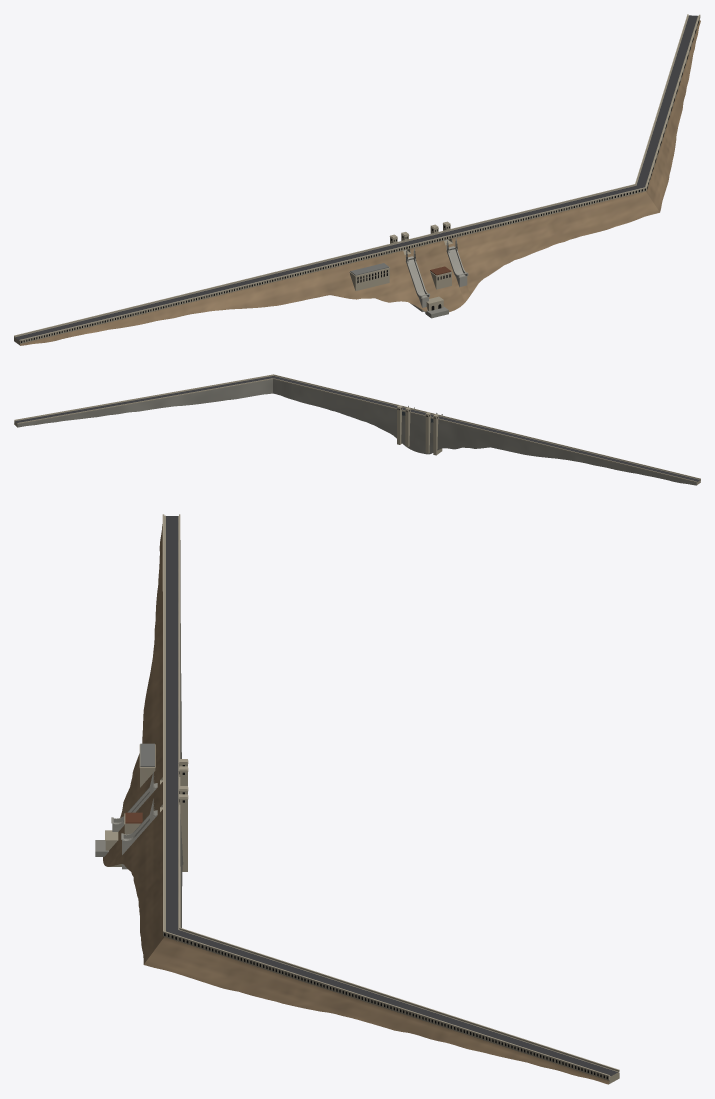
3 renders of one model, top to bottom at view 1: azimuth 30°, elevation 25°; view 2: azimuth 150°, elevation 25°; view 3: azimuth 270°, elevation 25°, orthographic. The views are drawn at different scales.
Parts seen in each view (by area): view 1: presa_de_riosequillo; view 2: presa_de_riosequillo; view 3: presa_de_riosequillo.
Part boxes in pixels (x1,y1,x2,y2): presa_de_riosequillo: [14, 14, 700, 345]; presa_de_riosequillo: [14, 374, 700, 485]; presa_de_riosequillo: [95, 514, 619, 1084].
Bounding box in the file's own units: 865 × 59.59 × 341.
